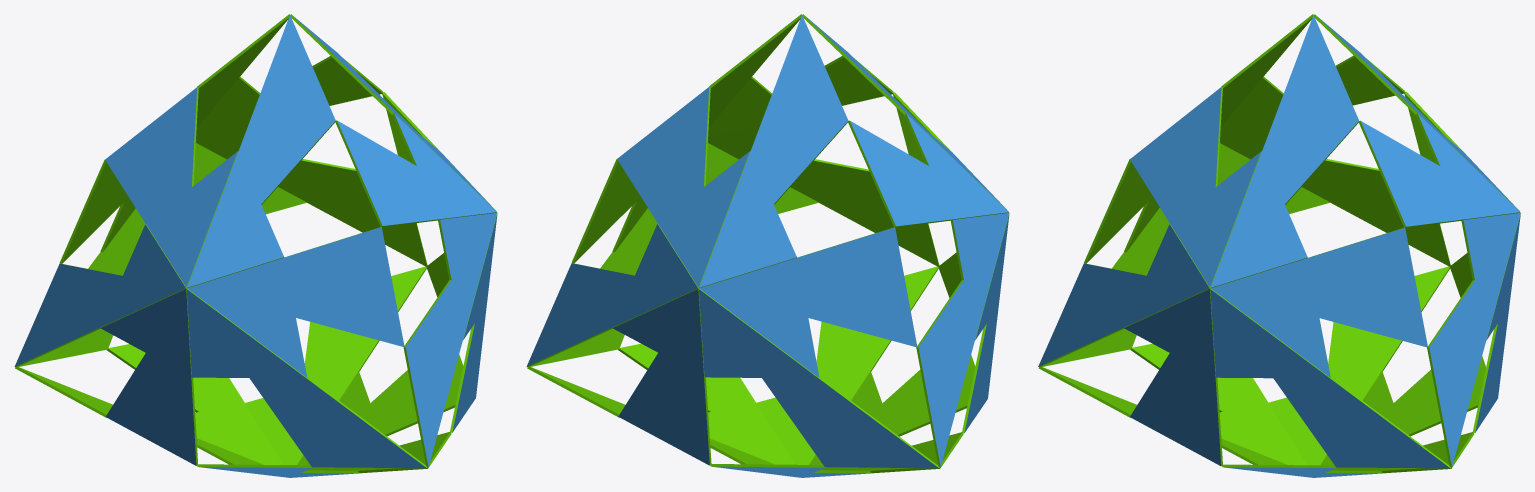
Rendered from HexakisTetrahedronS.glb.
The picture shows the model from 3 angles, left to right: view 1: azimuth 30°, elevation 25°; view 2: azimuth 150°, elevation 25°; view 3: azimuth 270°, elevation 25°; orthographic projection.
Visible parts, largest first — view 1: root; view 2: root; view 3: root.
Boxes of the visible parts, x1=… form: root: x1=14, y1=14, x2=497, y2=477; root: x1=526, y1=14, x2=1009, y2=477; root: x1=1038, y1=14, x2=1520, y2=477.
Bounding box in the file's own units: 8.87 × 9.48 × 8.95.
